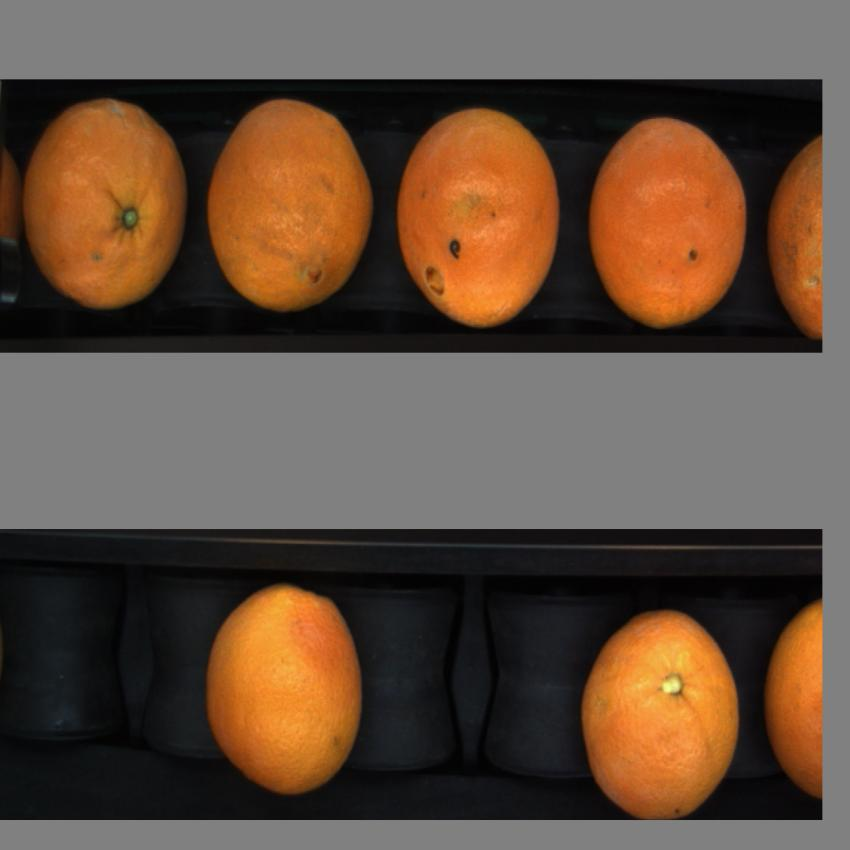Buen estado: (199, 583, 382, 806), (205, 99, 382, 329), (395, 103, 566, 332), (21, 97, 190, 321), (586, 110, 754, 335), (576, 596, 743, 821), (759, 591, 826, 802), (760, 121, 824, 339)
